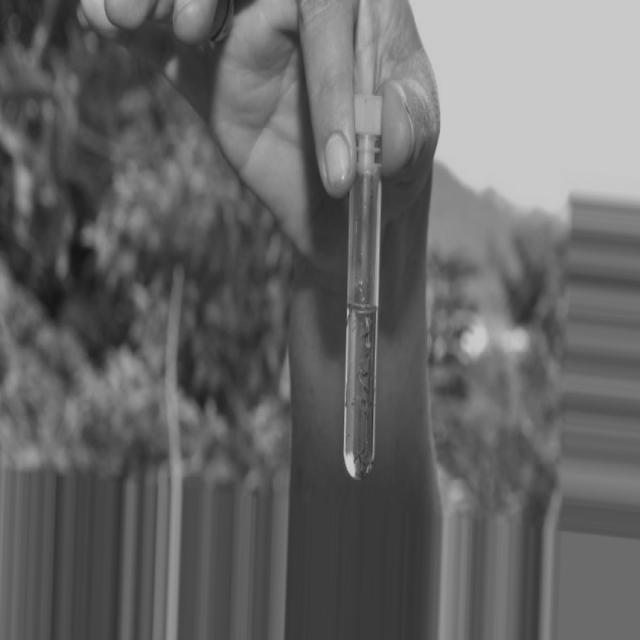larvas: (358, 369, 367, 392), (354, 443, 366, 460), (366, 319, 371, 349), (360, 401, 369, 417), (358, 456, 365, 474)
